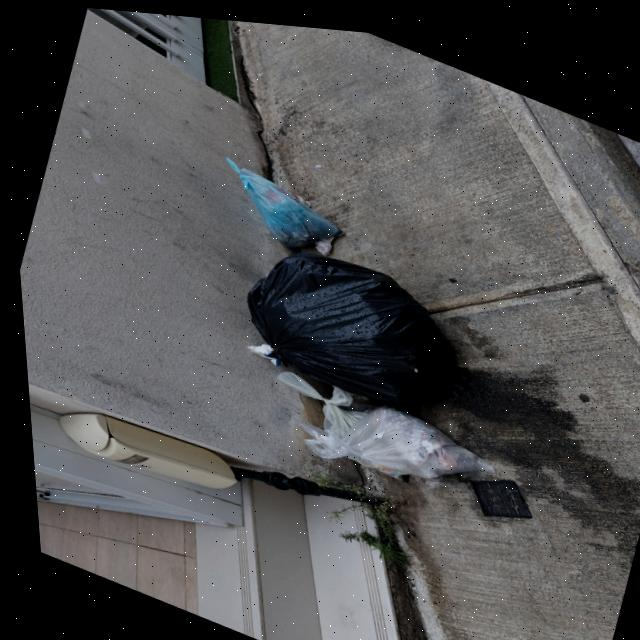Mixed Waste -Black Bag-: (226, 220, 484, 427)
Organic Waste -White Bag-: (310, 378, 493, 507)
Other: (220, 158, 350, 260)
